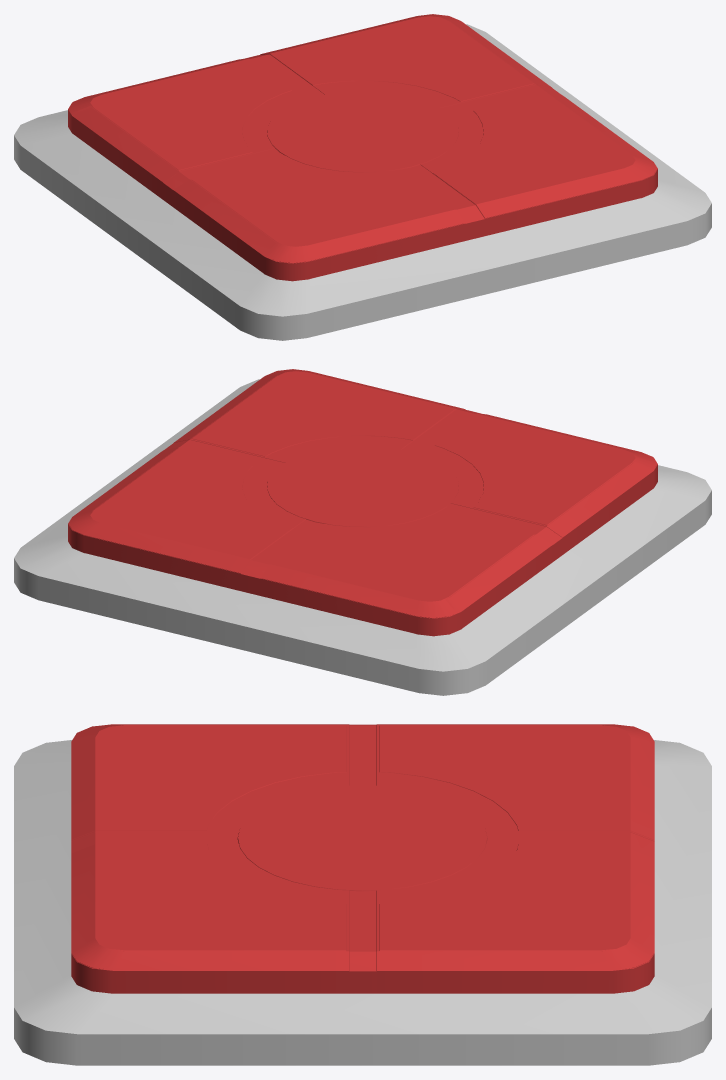
File: LS_plate_Sb.fbx
3 renders of one model, top to bottom at view 1: azimuth 30°, elevation 25°; view 2: azimuth 150°, elevation 25°; view 3: azimuth 270°, elevation 25°, orthographic. The views are drawn at different scales.
Visible parts, largest first — view 1: LS_plate_SButton_2, LS_plate_S, LS_plate_SButton_3, LS_plate_SButton_1; view 2: LS_plate_SButton_2, LS_plate_S, LS_plate_SButton_3, LS_plate_SButton_1; view 3: LS_plate_SButton_2, LS_plate_S, LS_plate_SButton_3, LS_plate_SButton_1.
Boxes of the visible parts, <box> form: LS_plate_SButton_2: <box>68,14,657,263</box>; LS_plate_S: <box>14,24,711,340</box>; LS_plate_SButton_3: <box>68,18,657,280</box>; LS_plate_SButton_1: <box>68,54,610,281</box>; LS_plate_SButton_2: <box>68,369,657,618</box>; LS_plate_S: <box>14,379,711,695</box>; LS_plate_SButton_3: <box>68,373,657,634</box>; LS_plate_SButton_1: <box>84,409,657,636</box>; LS_plate_SButton_2: <box>71,725,654,968</box>; LS_plate_S: <box>14,740,711,1065</box>; LS_plate_SButton_3: <box>71,724,654,993</box>; LS_plate_SButton_1: <box>71,724,654,993</box>.
Size of the model in its own units: 767 by 97.57 by 767.
